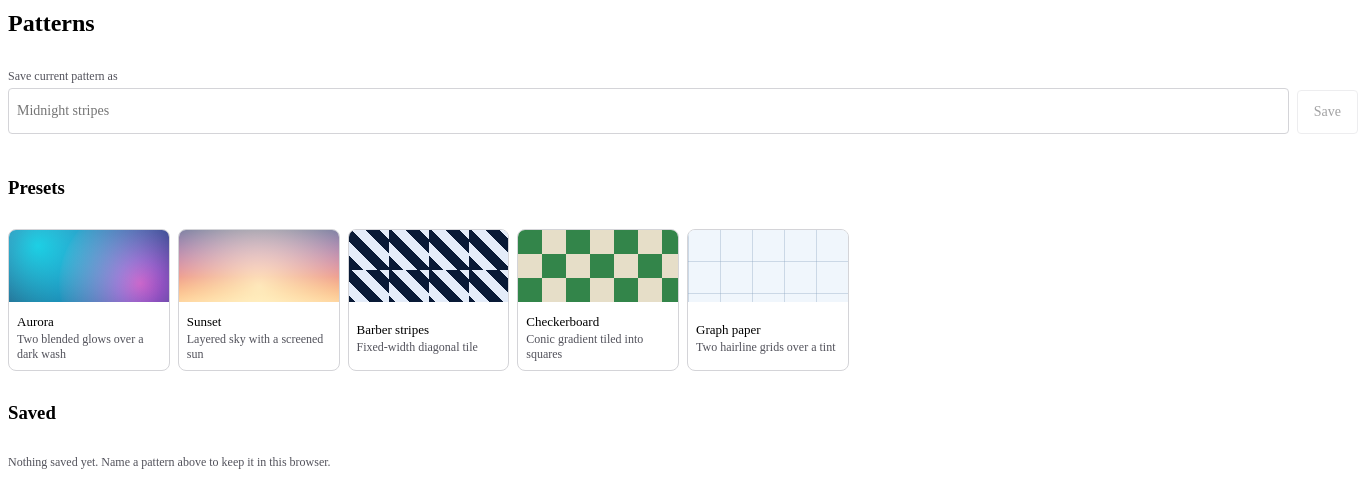
Scenario: PatternLibrary › loads a preset over the current pattern
What coordinates should you click on to do the following:
click the button "Barber stripes Fixed-width diagonal tile"
I would click on:
 (428, 300)
Its box is [348,229,509,371].
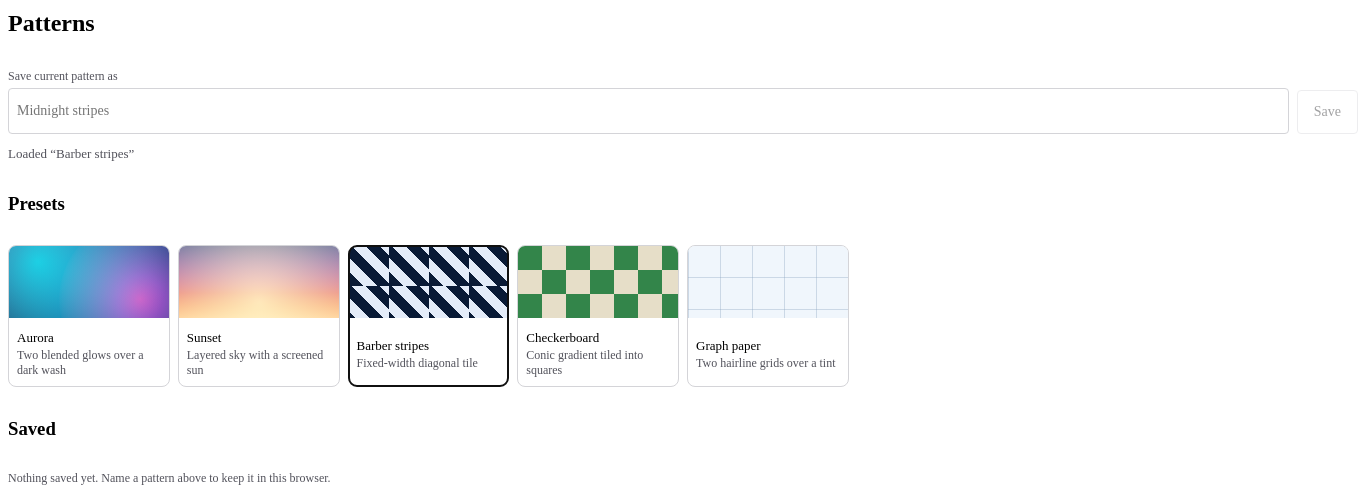
Expected: the message reads "Loaded “Barber stripes”", [8,146,134,161]
